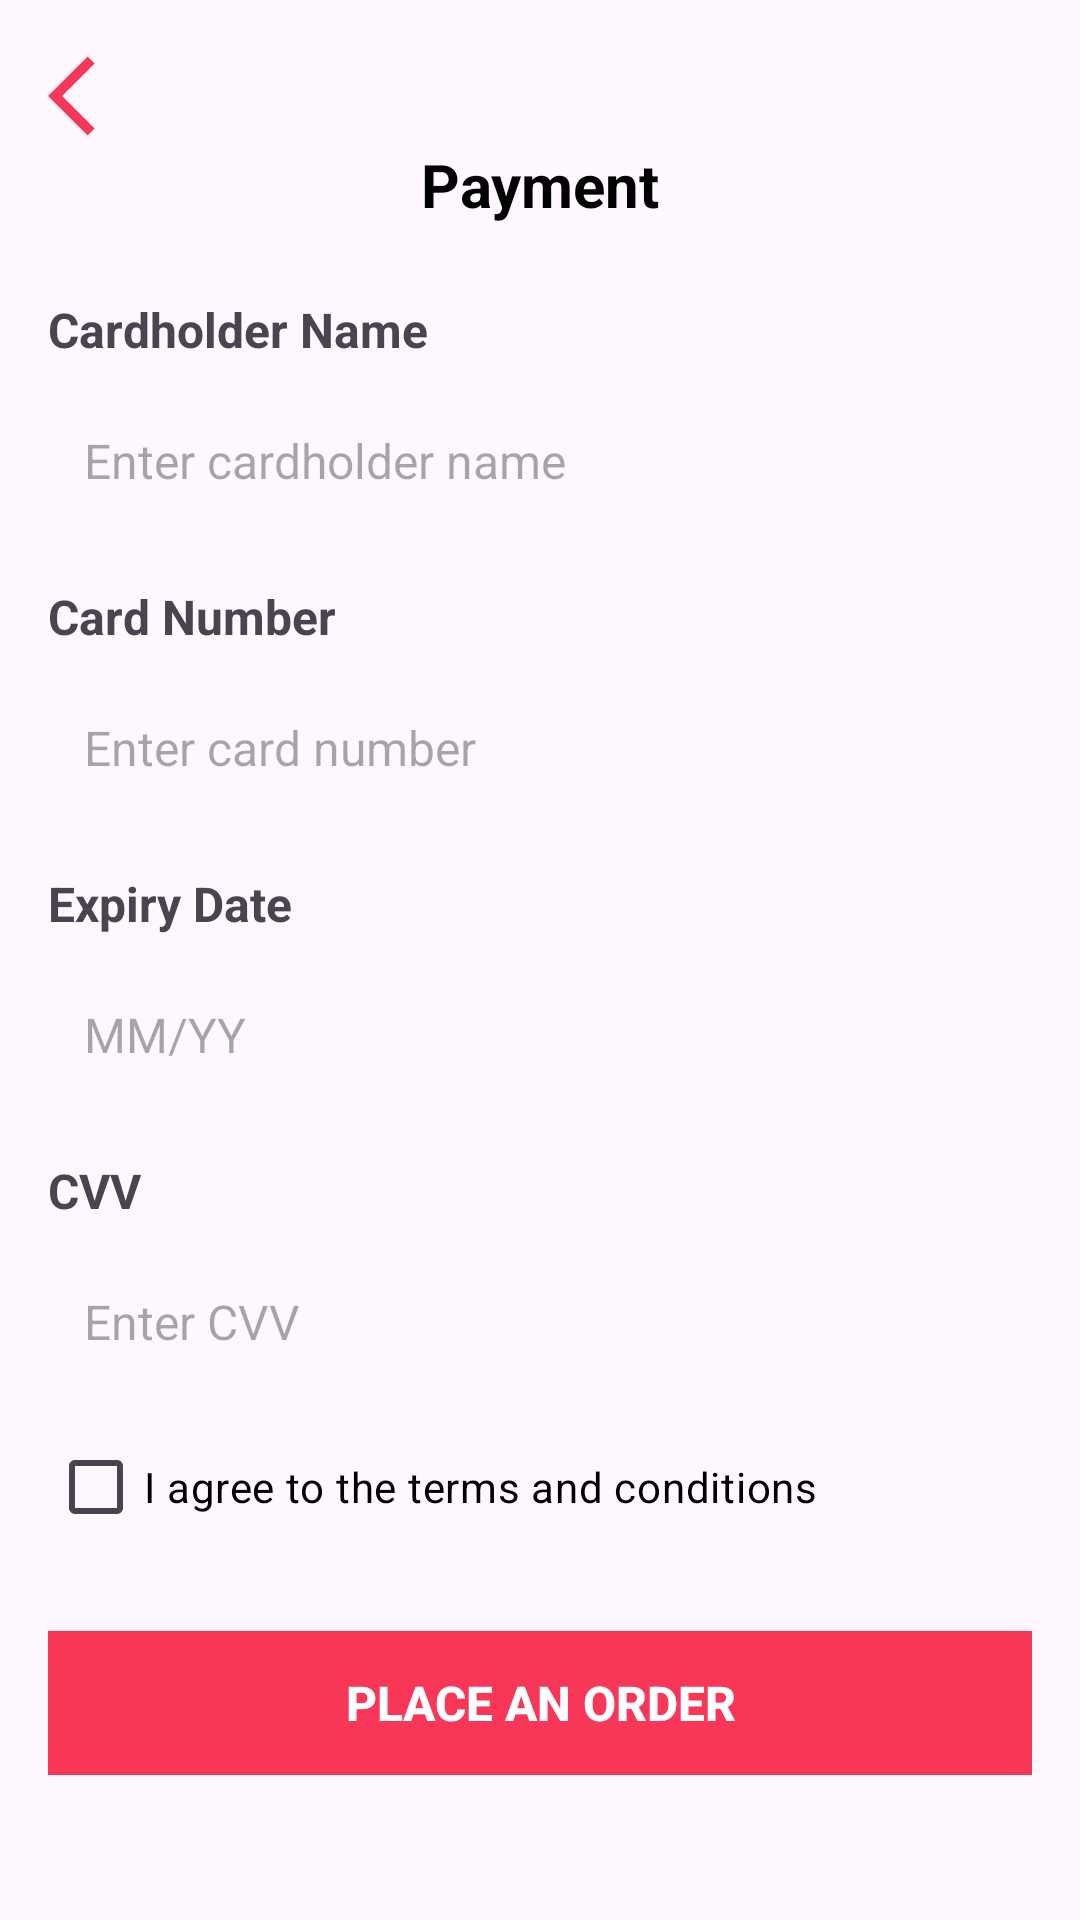

Screen size 1080w x 1920h. Icon name, then its center in pixels as [x,y]:
back arrow: [71,96]
